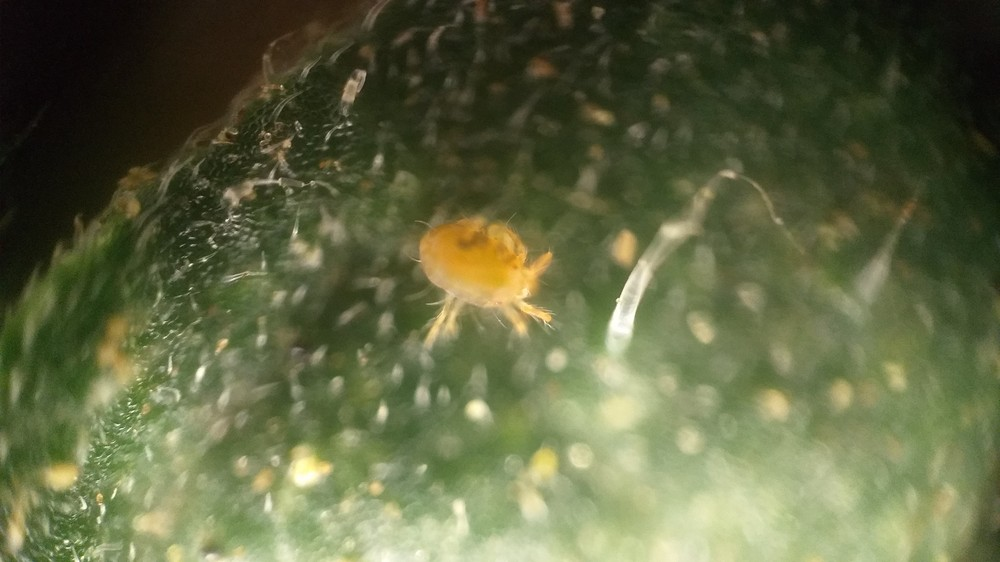Aracnido Rojo: (361, 186, 598, 366)
